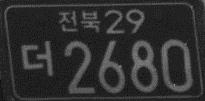0: (160, 36, 193, 94)
2: (62, 39, 95, 95), (103, 8, 125, 35)
6: (98, 39, 126, 95)
8: (129, 39, 159, 93)
9: (125, 7, 145, 35)
더: (21, 40, 54, 77)
전북_O: (57, 9, 101, 33)
